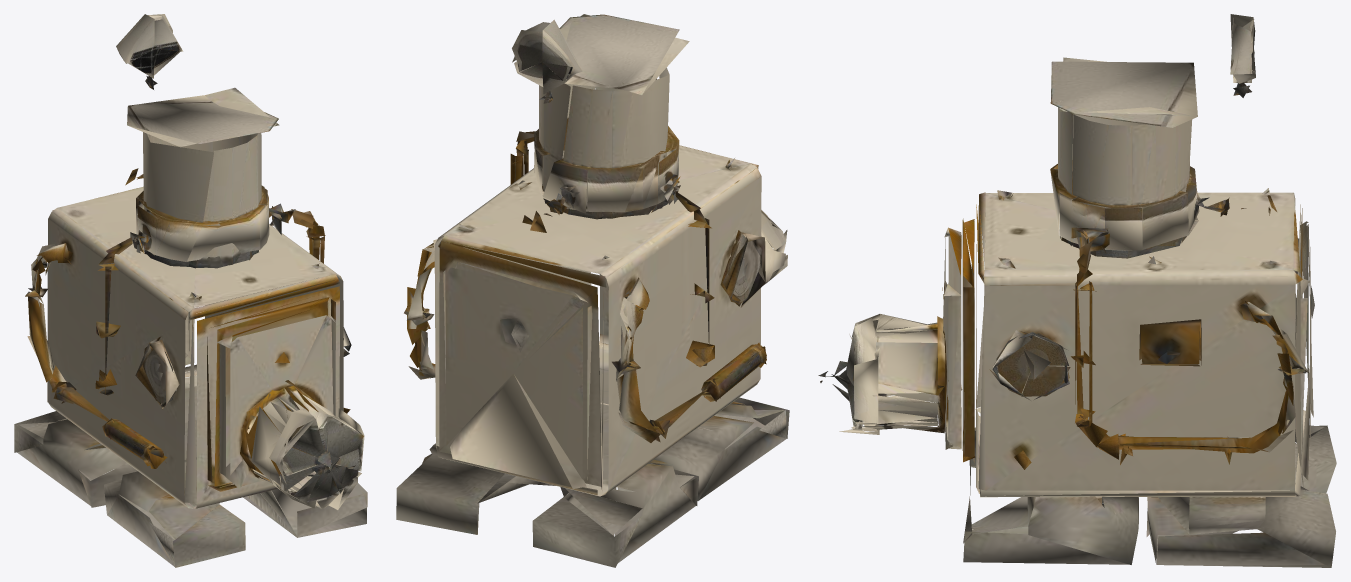
Rendered from reclaimer.lod1.glb.
3 renders of one model, left to right at view 1: azimuth 30°, elevation 25°; view 2: azimuth 150°, elevation 25°; view 3: azimuth 270°, elevation 25°, orthographic. The views are drawn at different scales.
Visible parts, largest first — view 1: reclaimer_lod1; view 2: reclaimer_lod1; view 3: reclaimer_lod1.
Boxes of the visible parts, left/top/right/bottom form: reclaimer_lod1: left=14, top=14, right=367, bottom=567; reclaimer_lod1: left=396, top=14, right=789, bottom=567; reclaimer_lod1: left=818, top=14, right=1336, bottom=567.
Bounding box in the file's own units: 1.03 × 2.07 × 1.93.
Materials: 1 (1 with a texture image).
